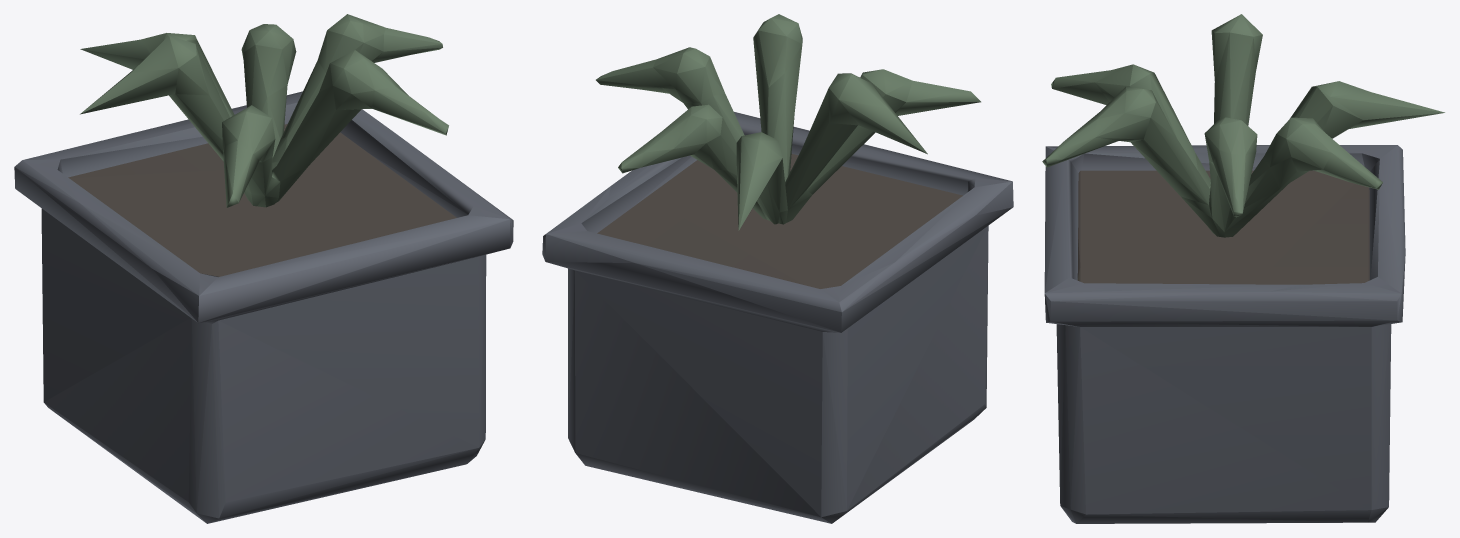
The model's file is pot_b.glb.
The picture shows the model from 3 angles, left to right: view 1: azimuth 30°, elevation 25°; view 2: azimuth 150°, elevation 25°; view 3: azimuth 270°, elevation 25°; orthographic projection. The views are drawn at different scales.
Visible parts, largest first — view 1: pot_b; view 2: pot_b; view 3: pot_b.
Boxes of the visible parts, x1,y1,x2,y2 form: pot_b: [14, 14, 513, 523]; pot_b: [542, 14, 1013, 523]; pot_b: [1042, 14, 1444, 523].
Size of the model in its own units: 0.5311 by 0.594 by 0.5336.
